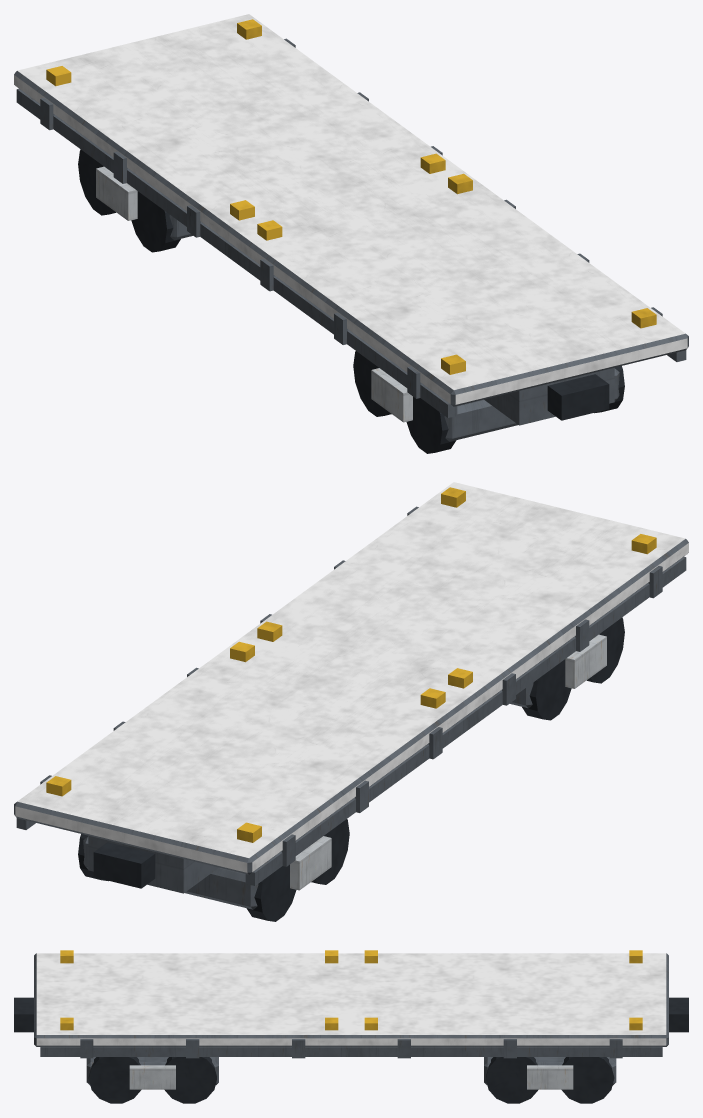
Rendered from train_car.gltf.
3 renders of one model, top to bottom at view 1: azimuth 30°, elevation 25°; view 2: azimuth 150°, elevation 25°; view 3: azimuth 270°, elevation 25°, orthographic. The views are drawn at different scales.
Parts seen in each view (by area): view 1: TrainCar; view 2: TrainCar; view 3: TrainCar.
Boxes of the visible parts, box(x1,y1,x2,y2) form: TrainCar: box(14, 14, 688, 453); TrainCar: box(14, 482, 688, 921); TrainCar: box(14, 950, 688, 1103).
Bounding box in the file's own units: 0.31 × 0.1409 × 1.02.
Materials: 5 (5 with a texture image).
